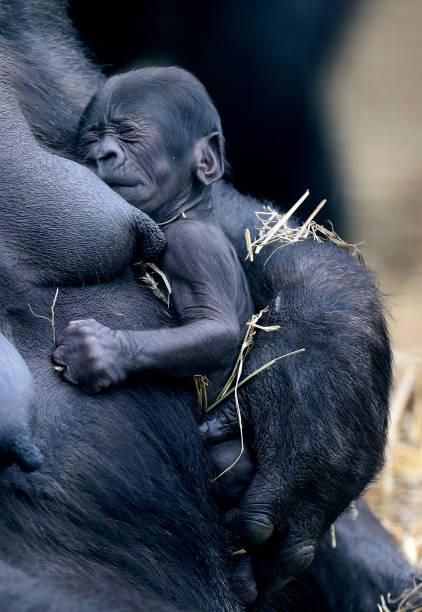gorille_Autres: (42, 62, 286, 426)
